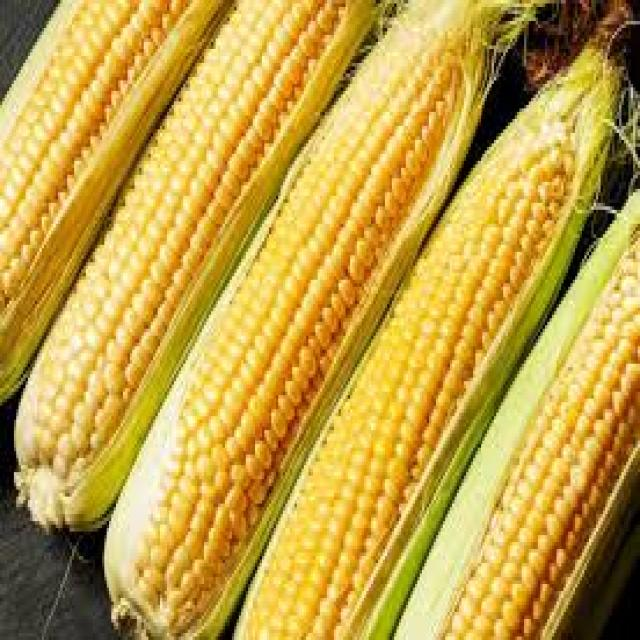corn: (108, 0, 488, 640), (234, 33, 618, 640), (6, 0, 366, 550), (403, 191, 640, 640), (0, 0, 230, 402)
